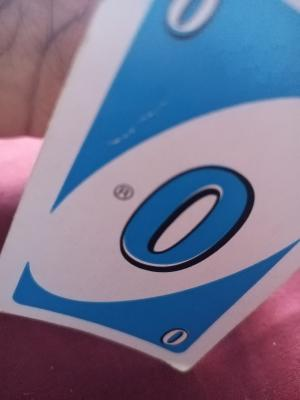blue: (95, 64, 256, 312)
